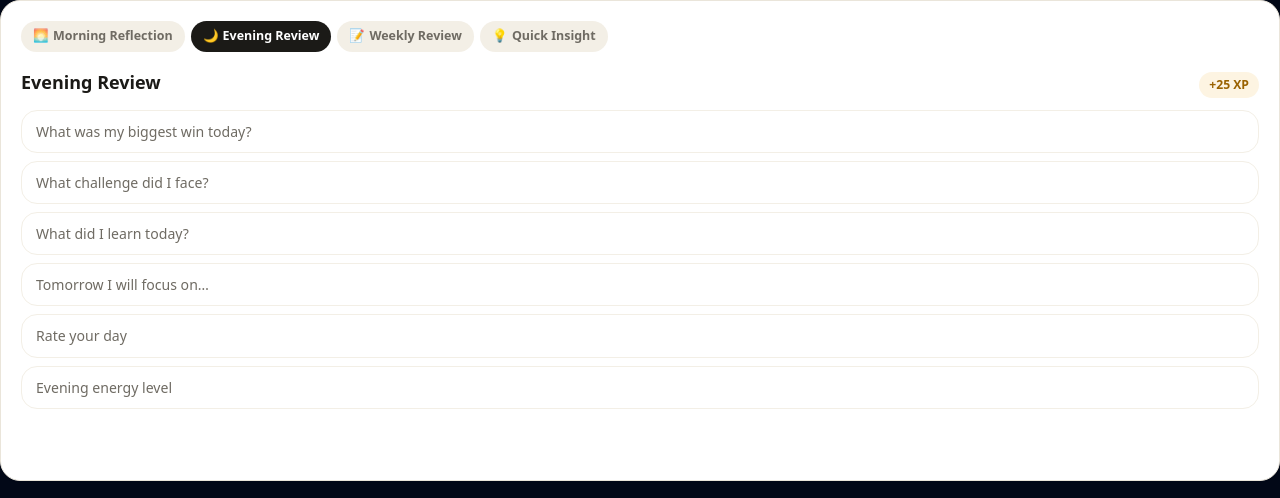
Scenario: TemplatesPanel › quotes the seeded templates rather than inventing fields
Check: the text "What is my ONE most important task today?" is not shown
Click the tab "🌅Morning Reflection": (103, 36) [21,21,185,52]
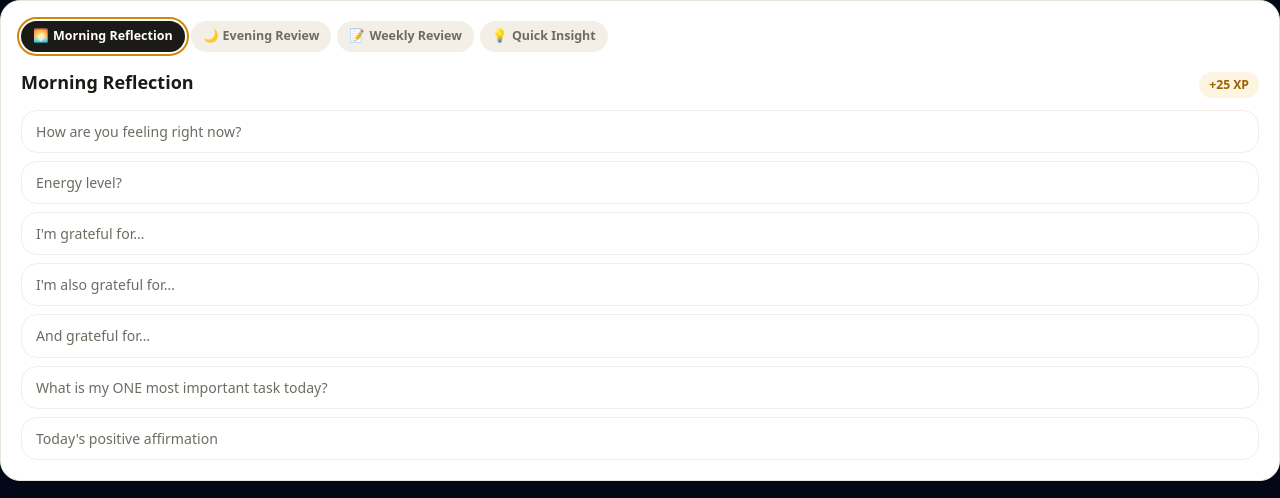
Check: the text "What is my ONE most important task today?" is shown, box [21,366,1259,409]
Check: the text "Today's positive affirmation" is shown, box [21,417,1259,460]
Click the tab "📝Weekly Review": (406, 36) [337,21,474,52]
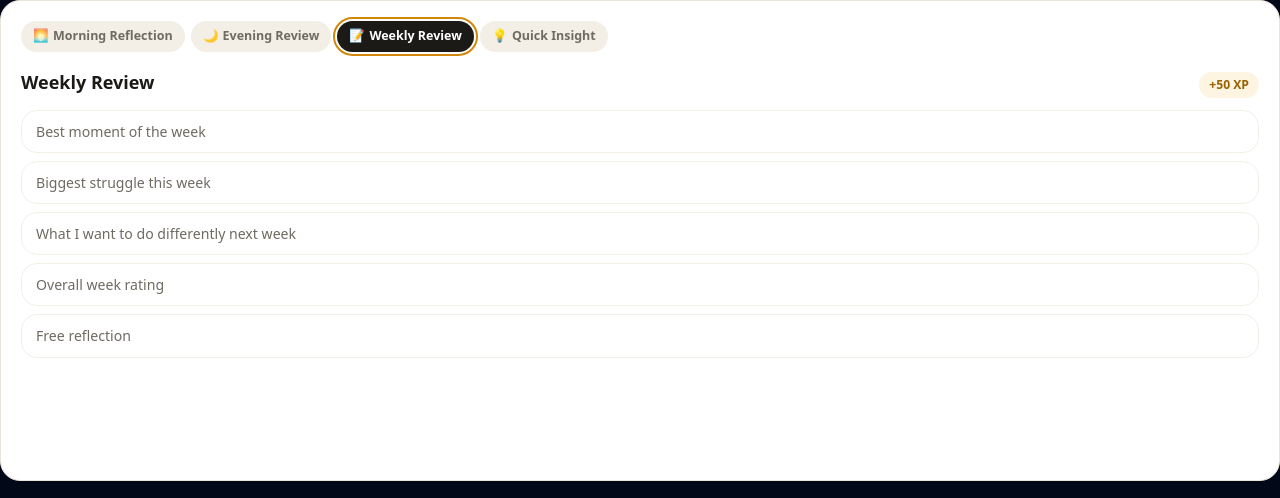
Check: the text "Overall week rating" is shown, box [21,263,1259,306]
Check: the text "Free reflection" is shown, box [21,314,1259,358]
Click the tab "💡Quick Insight": (544, 36) [480,21,608,52]
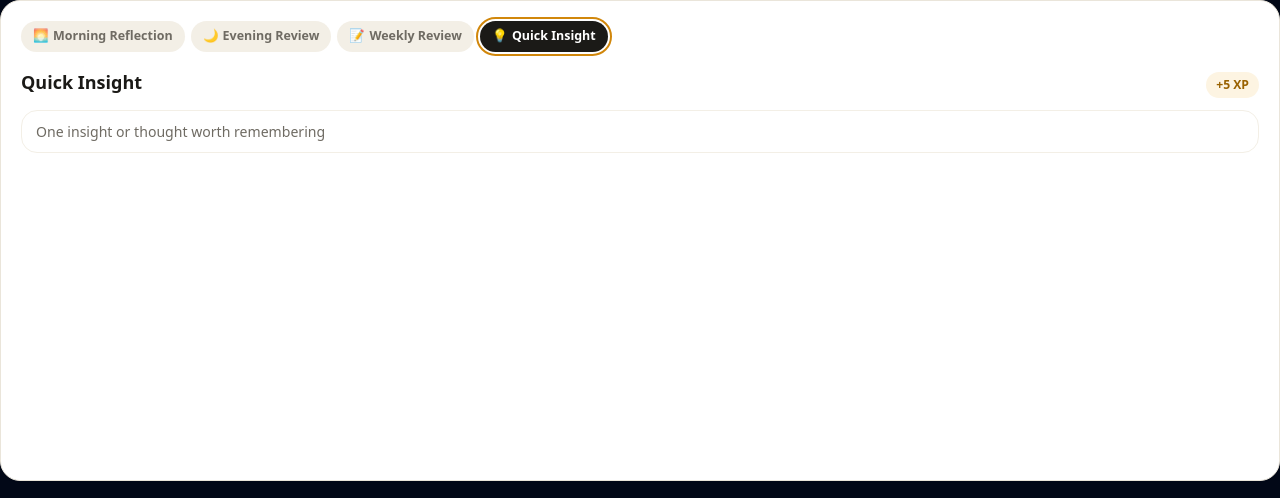
Check: the text "One insight or thought worth remembering" is shown, box [21,110,1259,153]
Check: the text "+5 XP" is shown, box [1206,72,1259,98]
